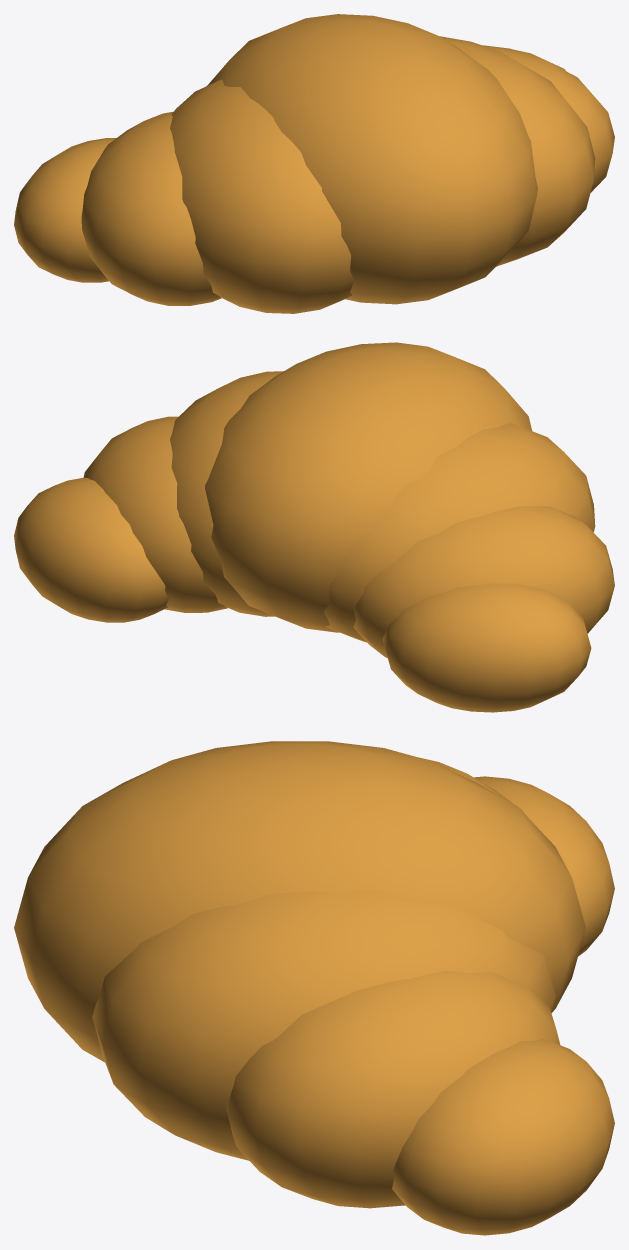
The model's file is croissant.glb.
3 views of the same model, one above another, from view 1: azimuth 30°, elevation 25°; view 2: azimuth 150°, elevation 25°; view 3: azimuth 270°, elevation 25° (orthographic). The views are drawn at different scales.
Visible parts, largest first — view 1: edible_croissant.003, edible_croissant.002, edible_croissant.001, edible_croissant.004, edible_croissant, edible_croissant.005; view 2: edible_croissant.003, edible_croissant, edible_croissant.001, edible_croissant.002, edible_croissant.006, edible_croissant.005, edible_croissant.004; view 3: edible_croissant.003, edible_croissant.004, edible_croissant.005, edible_croissant.006, edible_croissant.
Part boxes in pixels (x1,y1,x2,y2): edible_croissant.003: [207, 14, 537, 304]; edible_croissant.002: [170, 79, 353, 313]; edible_croissant.001: [81, 111, 221, 305]; edible_croissant.004: [439, 36, 595, 266]; edible_croissant: [14, 138, 116, 282]; edible_croissant.005: [483, 45, 614, 192]; edible_croissant.003: [205, 342, 531, 632]; edible_croissant: [382, 583, 591, 712]; edible_croissant.001: [353, 506, 614, 657]; edible_croissant.002: [324, 423, 595, 642]; edible_croissant.006: [14, 477, 168, 622]; edible_croissant.005: [83, 416, 227, 612]; edible_croissant.004: [170, 371, 283, 616]; edible_croissant.003: [14, 741, 585, 1062]; edible_croissant.004: [92, 890, 555, 1160]; edible_croissant.005: [226, 970, 560, 1208]; edible_croissant.006: [392, 1039, 614, 1235]; edible_croissant: [474, 776, 614, 956].
Size of the model in its own units: 0.1464 by 0.0595 by 0.0993.
